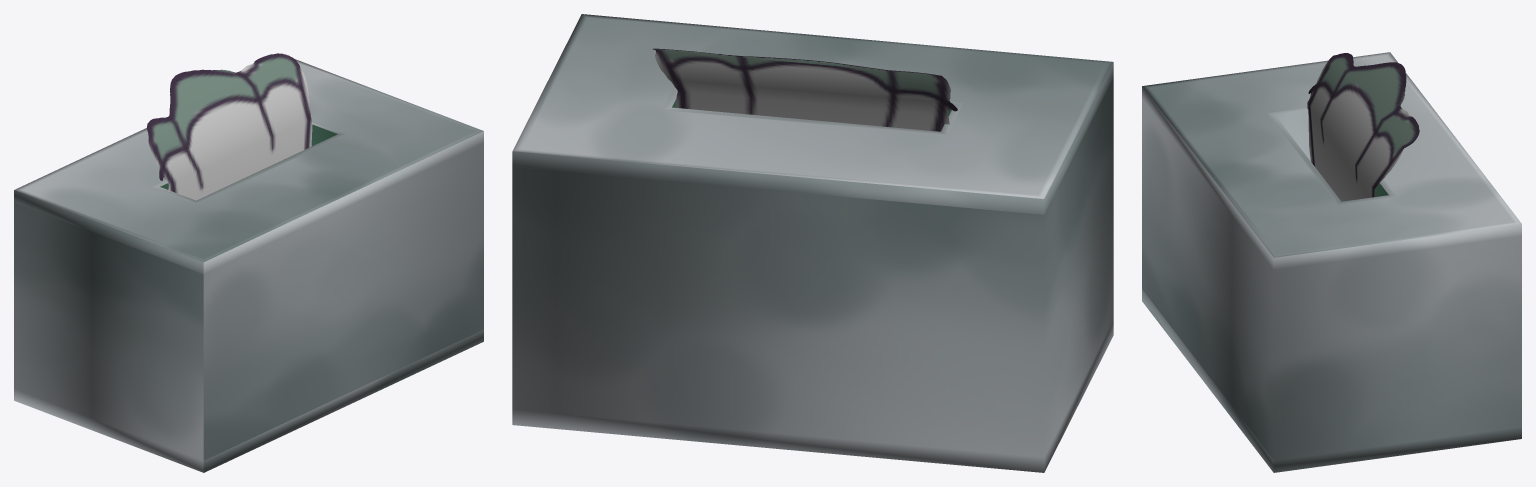
Rendered from Lencos.fbx.
The picture shows the model from 3 angles, left to right: view 1: azimuth 30°, elevation 25°; view 2: azimuth 150°, elevation 25°; view 3: azimuth 270°, elevation 25°; orthographic projection. The views are drawn at different scales.
Parts seen in each view (by area): view 1: CaixaDeLencos; view 2: CaixaDeLencos; view 3: CaixaDeLencos.
Boxes of the visible parts, x1=… form: CaixaDeLencos: x1=14, y1=53, x2=483, y2=472; CaixaDeLencos: x1=512, y1=14, x2=1113, y2=472; CaixaDeLencos: x1=1142, y1=52, x2=1521, y2=472.
Bounding box in the file's own units: 42.06 × 32.82 × 27.89.
